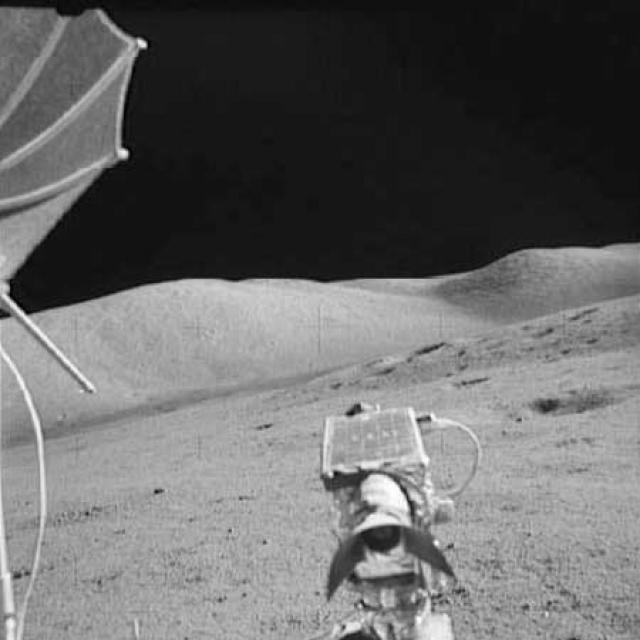artifact: (0, 0, 155, 639), (302, 396, 494, 638)
crater: (328, 336, 598, 383), (534, 384, 634, 424)
